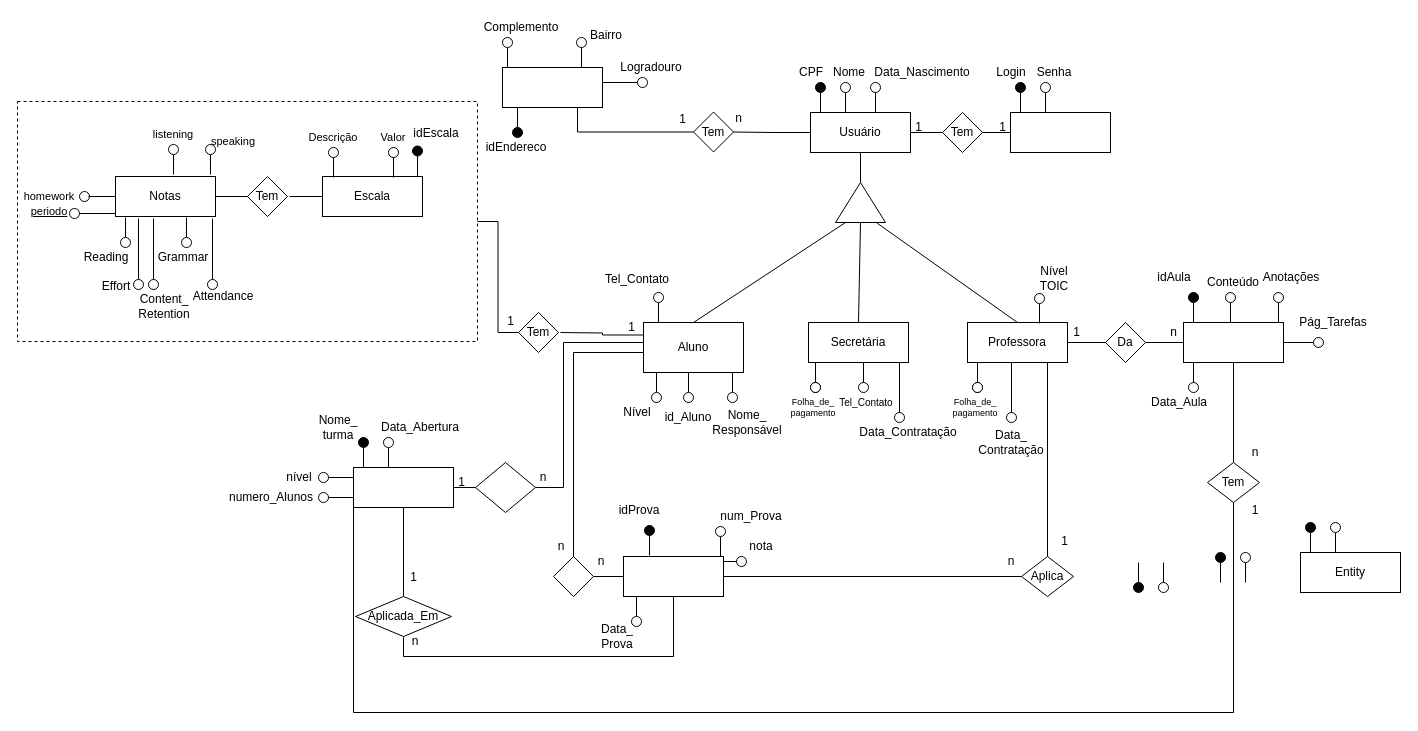
Some shapes in this 1418 by 731 pixel diagram are drawn without their labels. The shapes that lost their labels are listed below. From the top down, each one's box as (x1, y1, x2, y2) in pixels, then its label:
(502, 66, 602, 108): Endereço
(1010, 112, 1110, 152): Credenciais
(1182, 322, 1284, 362): Aula
(352, 466, 454, 508): Turma
(474, 462, 536, 512): Estuda_Em
(552, 556, 594, 596): Faz
(622, 556, 724, 596): Prova
